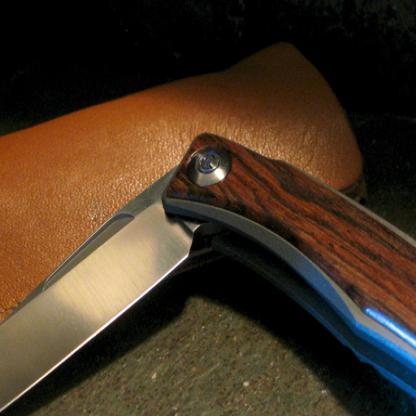knife: (0, 130, 415, 415)
